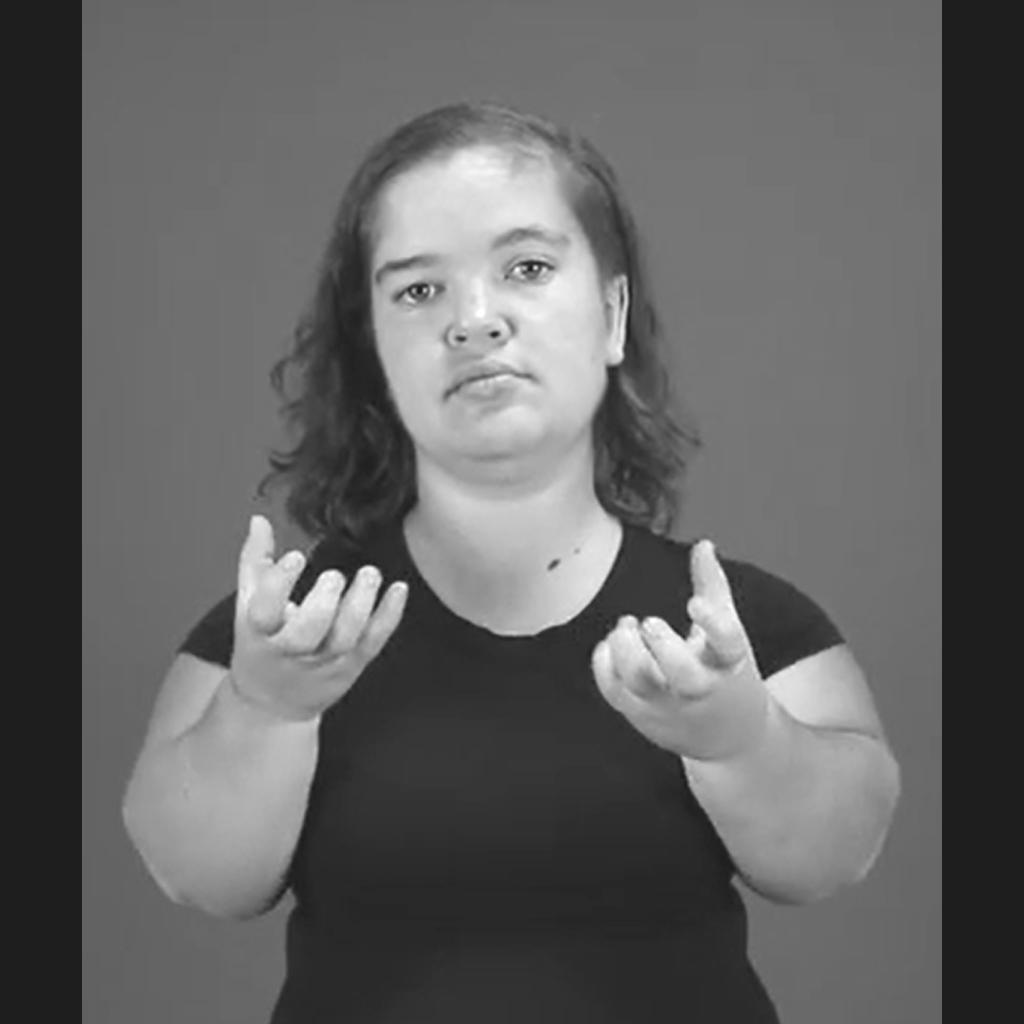want: (240, 516, 766, 754)
